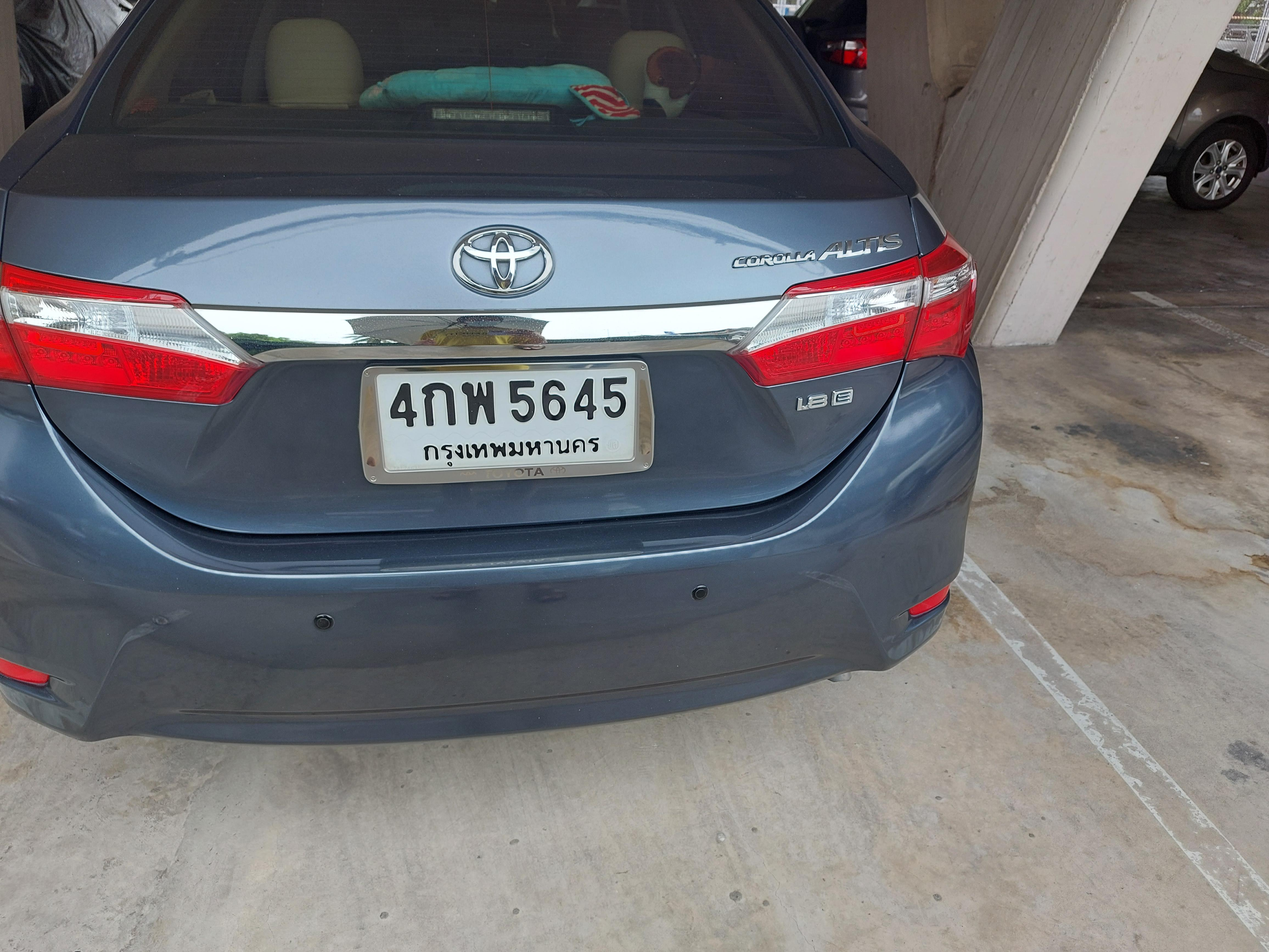license-plate: (352, 355, 666, 491)
